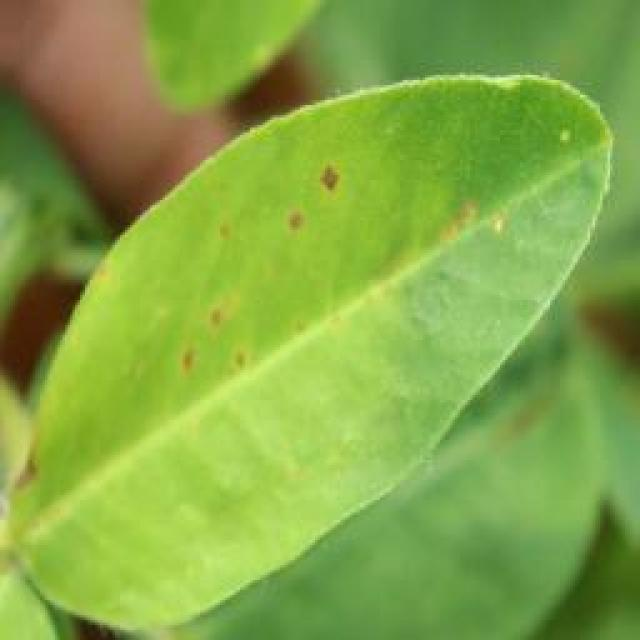Sigatoka: (259, 155, 369, 245), (411, 186, 512, 277), (182, 291, 247, 387), (5, 439, 60, 514), (199, 214, 234, 276)
